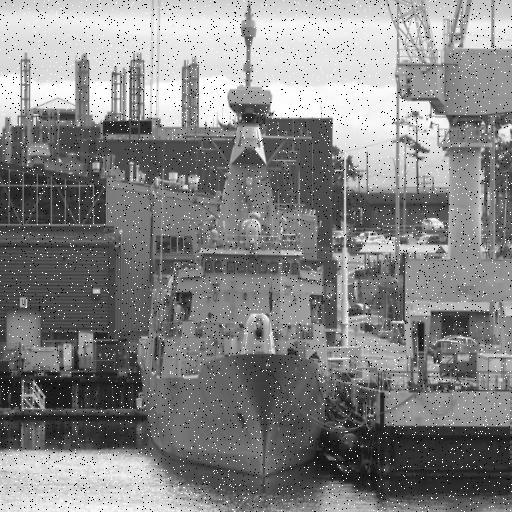Fragata: (139, 1, 334, 485)
